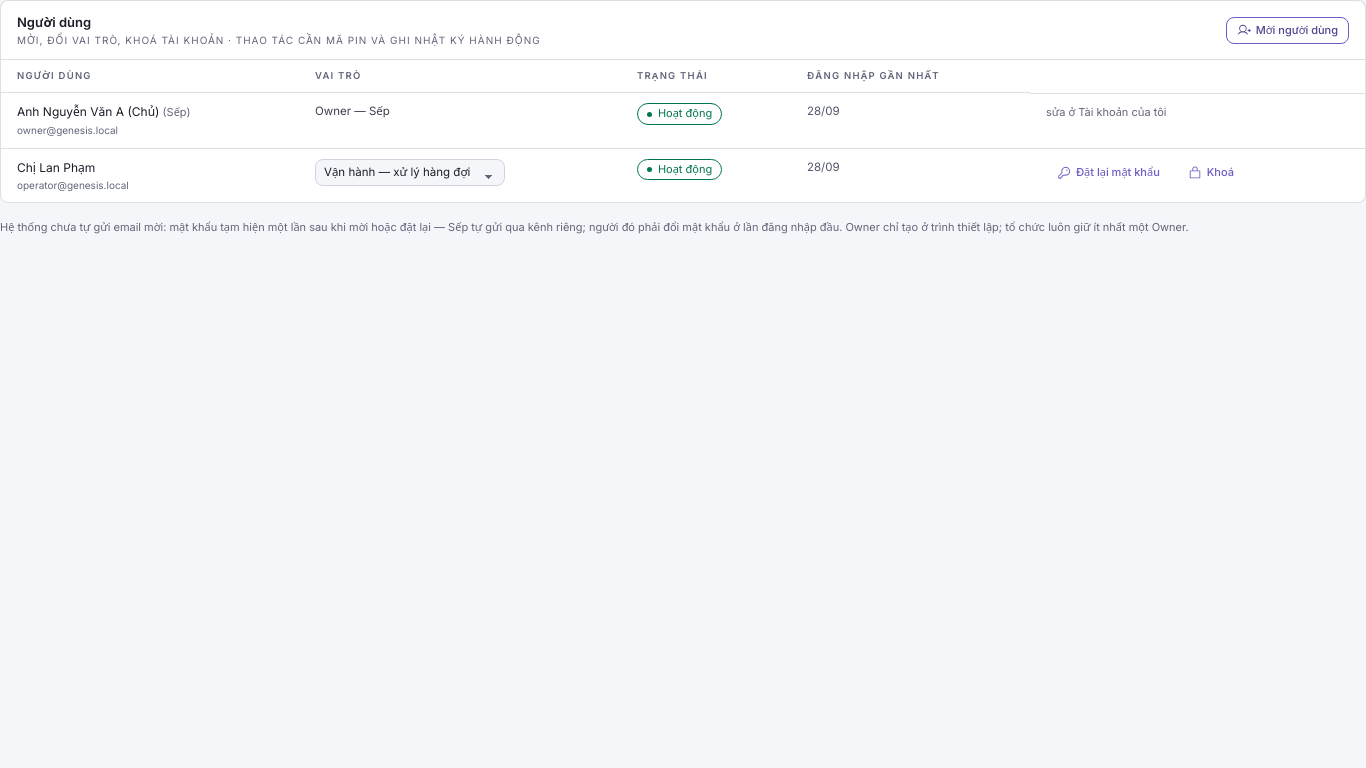
Test: UsersTab › đổi vai trò, khoá (hỏi lại), đặt lại mật khẩu; lỗi Owner cuối hiện rõ
Select "Kiểm soát — chỉ xem" in the dropdown named "Vai trò của Chị Lan Phạm" at (410, 172), box [315,158,505,186]
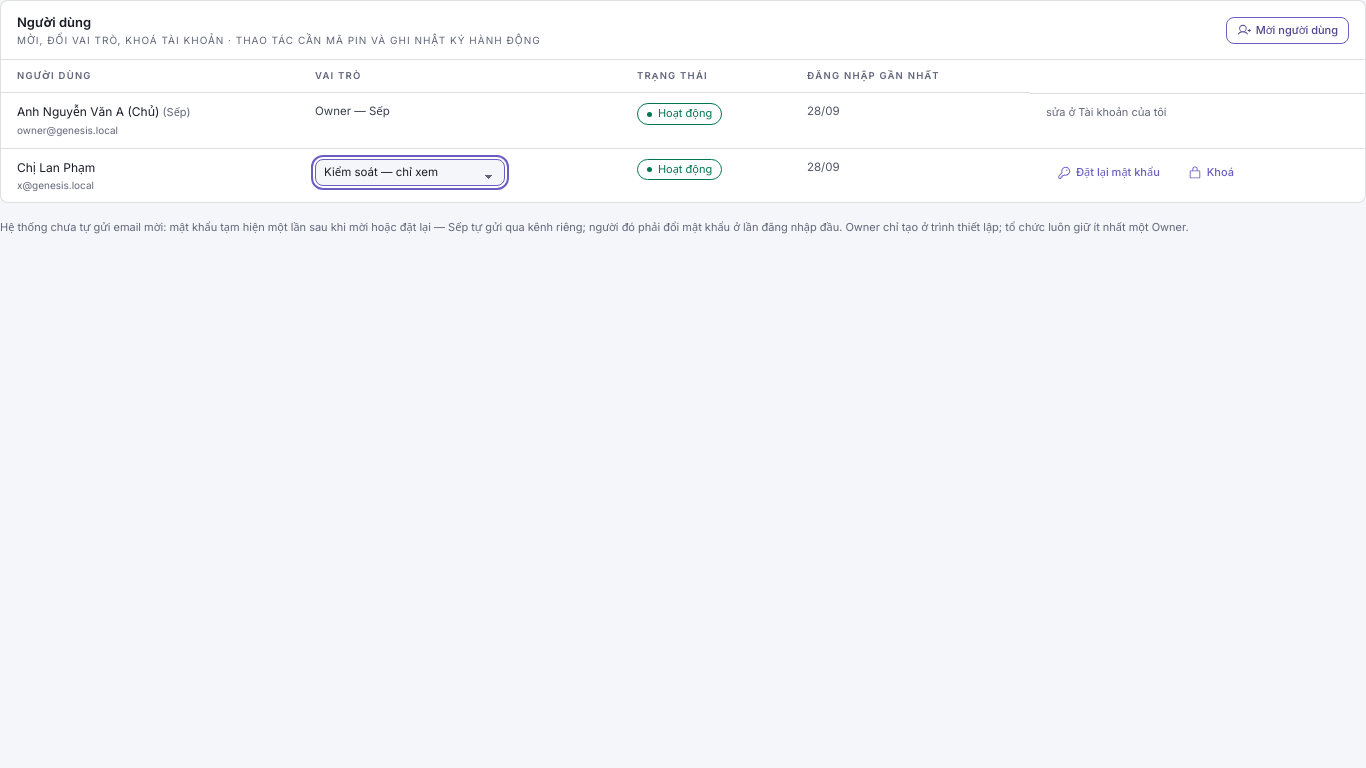
Click the button with aria-label "Khoá Chị Lan Phạm".
click(1211, 172)  # box [1177,159,1245,186]
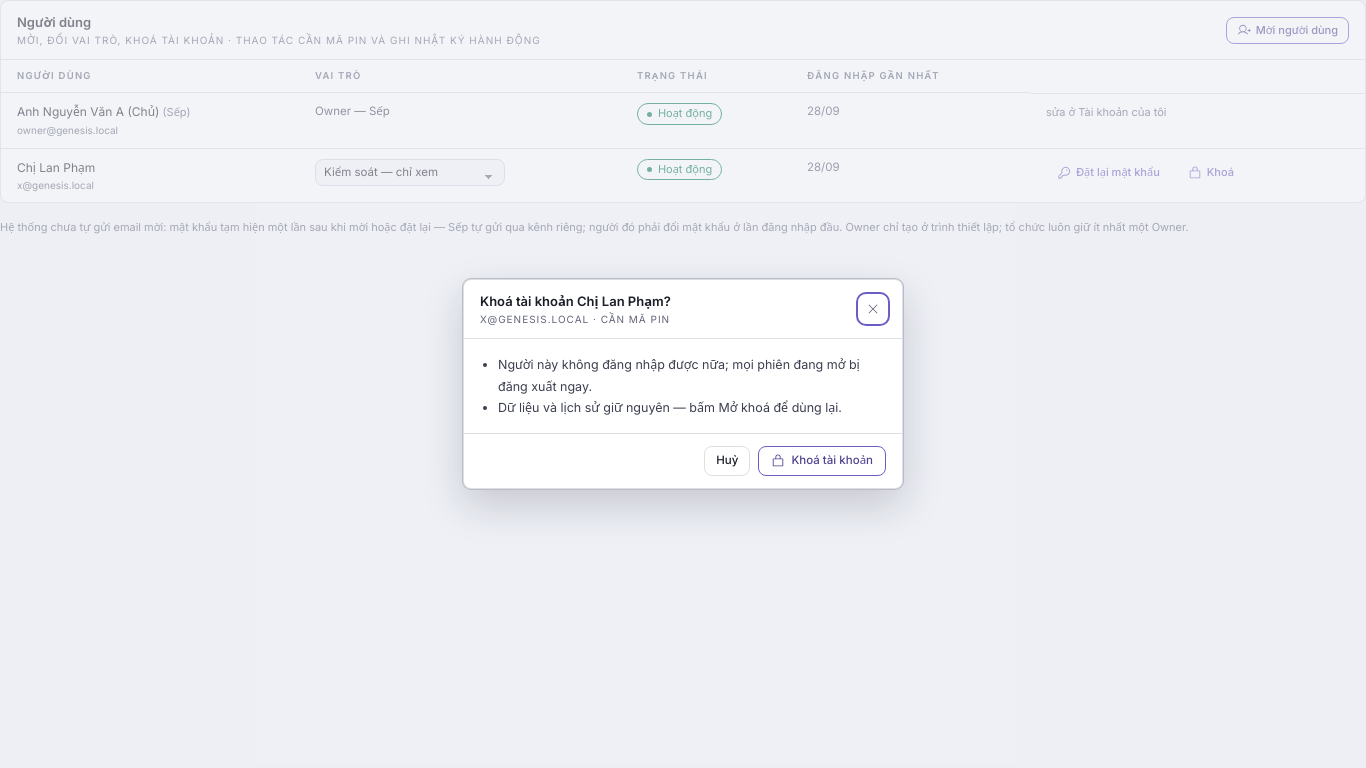
Click the button "Khoá tài khoản".
click(822, 461)  # box [758,446,886,476]
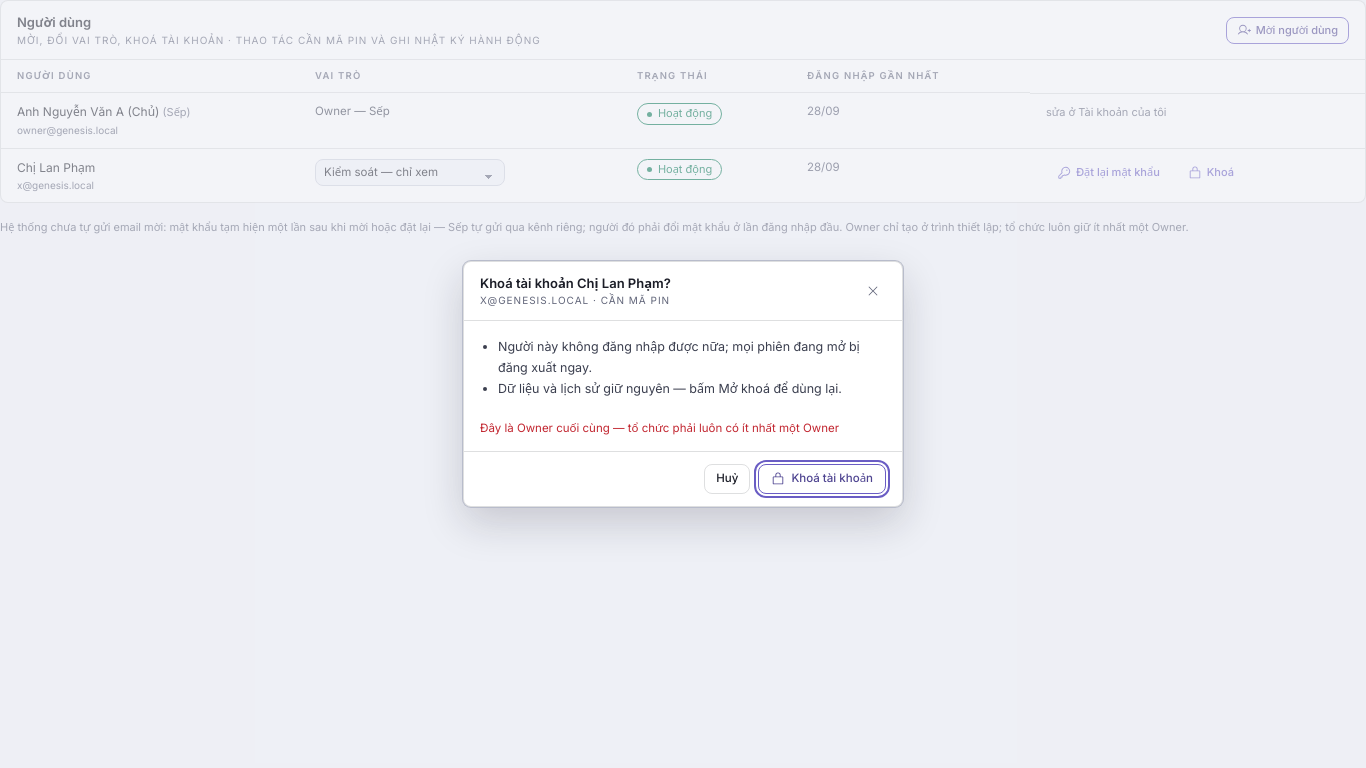
Expected: the text "Owner cuối cùng" is shown, [480,421,839,435]
Click the button "Huỷ".
click(727, 479)  # box [704,464,750,494]
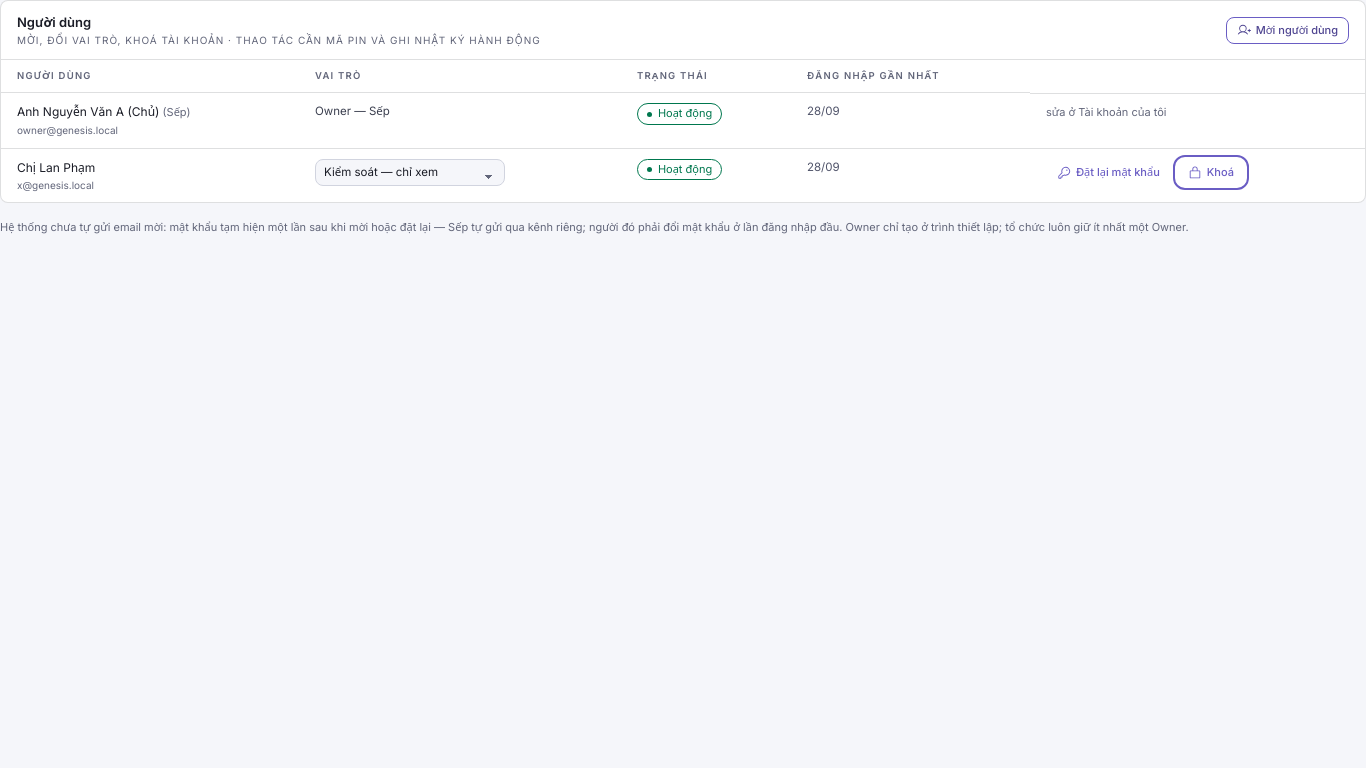
Click the button with aria-label "Đặt lại mật khẩu Chị Lan Phạm".
click(1108, 172)  # box [1046,159,1171,186]
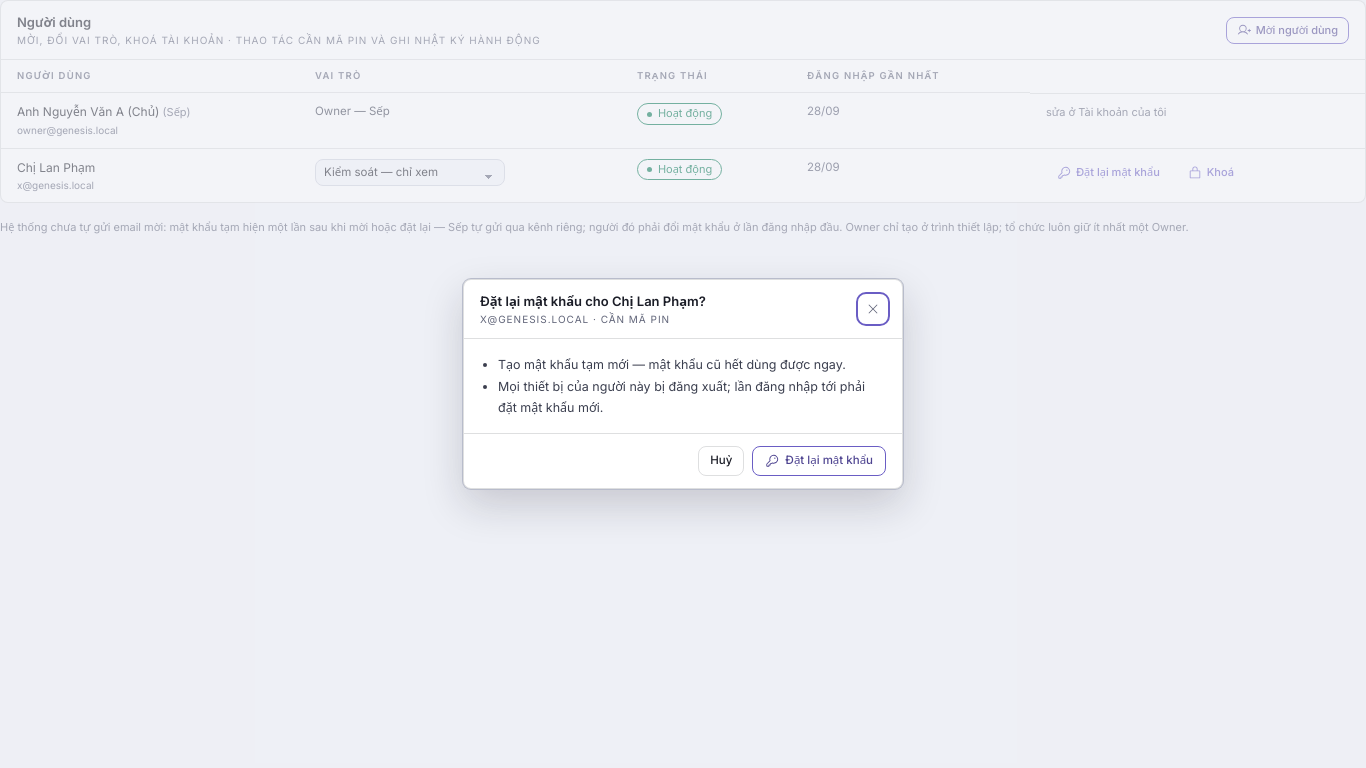
Click the button "Đặt lại mật khẩu".
click(819, 461)  # box [752,446,886,476]
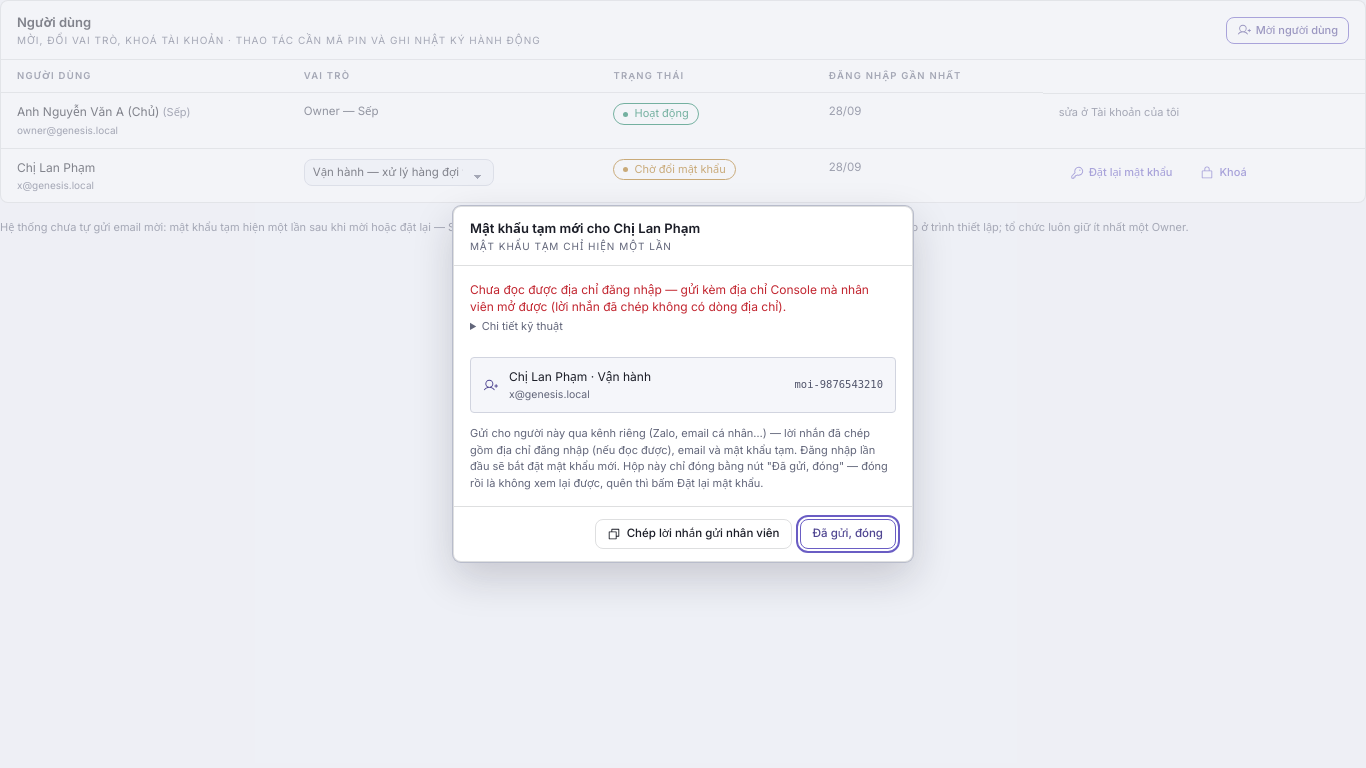
Expected: the text named "Mật khẩu tạm" reads "moi-9876543210", [794,378,883,390]
Expected: the text "Chờ đổi mật khẩu" is shown, [614,158,736,180]
